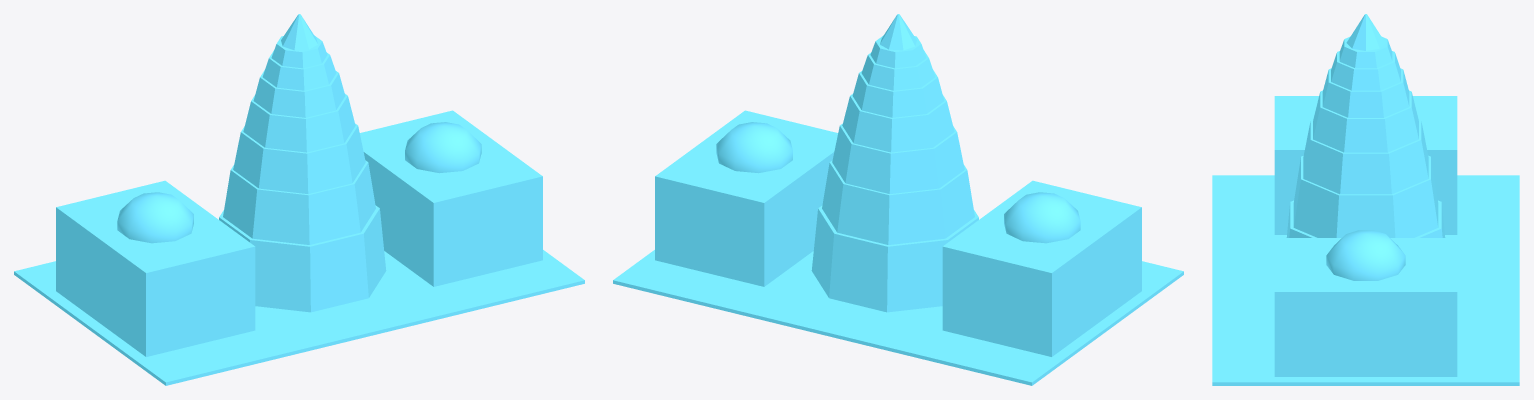
3 renders of one model, left to right at view 1: azimuth 30°, elevation 25°; view 2: azimuth 150°, elevation 25°; view 3: azimuth 270°, elevation 25°, orthographic.
Visible parts, largest first — view 1: Tower_Shell; view 2: Tower_Shell; view 3: Tower_Shell.
Part boxes in pixels (x1,y1,x2,y2): Tower_Shell: (14, 14, 584, 385); Tower_Shell: (613, 14, 1183, 385); Tower_Shell: (1212, 14, 1519, 385).
Bounding box in the file's own units: 18.8 × 11.35 × 11.8.
